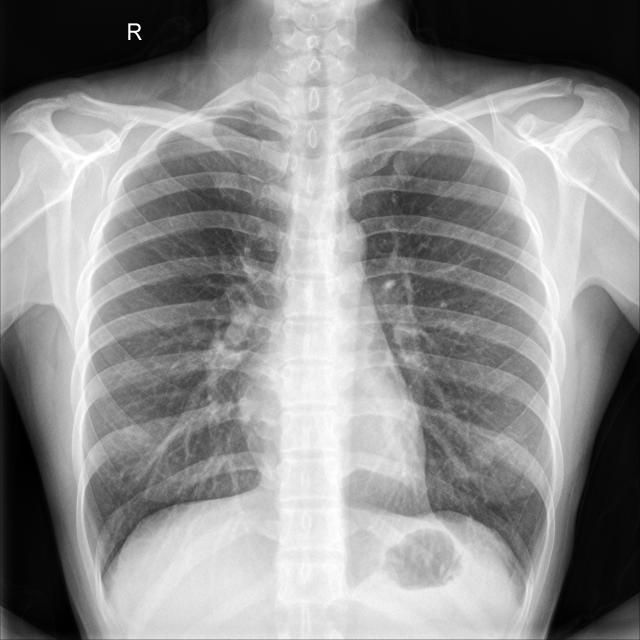no-pneumonia: (84, 101, 292, 574), (342, 104, 552, 568)
